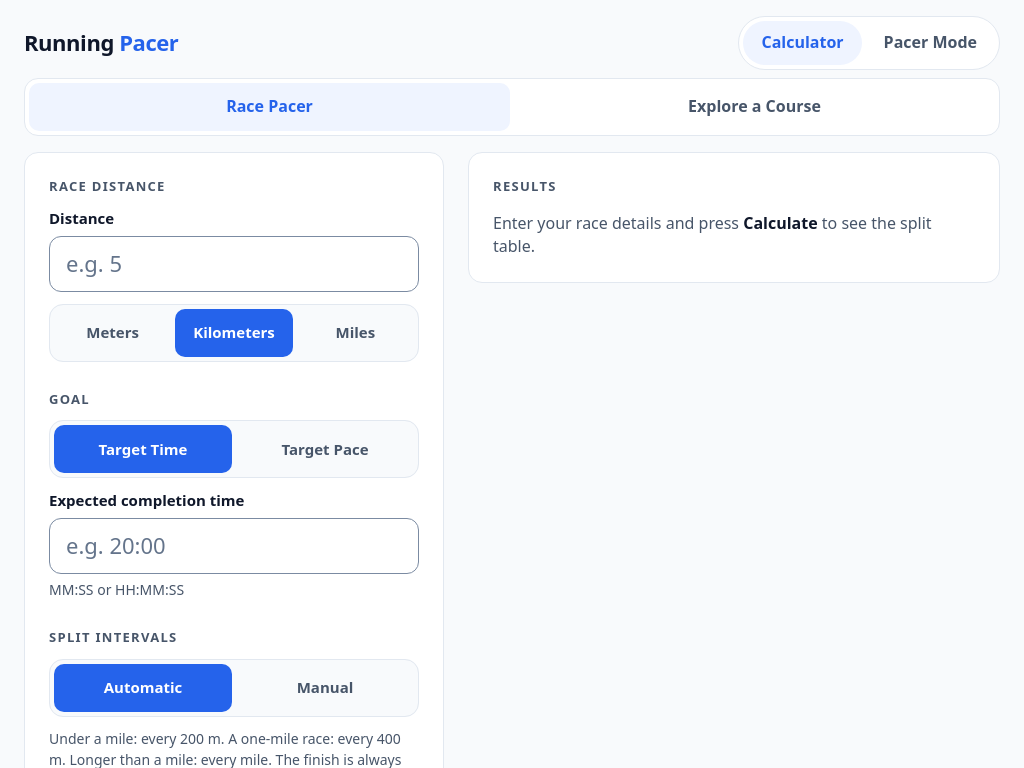
after calculating a race › shows the active race and the finish location, and no other locations yet
The width and height of the screenshot is (1024, 768).
In the field labelled "Distance": [234, 264] box [49,236,419,292], type "5"
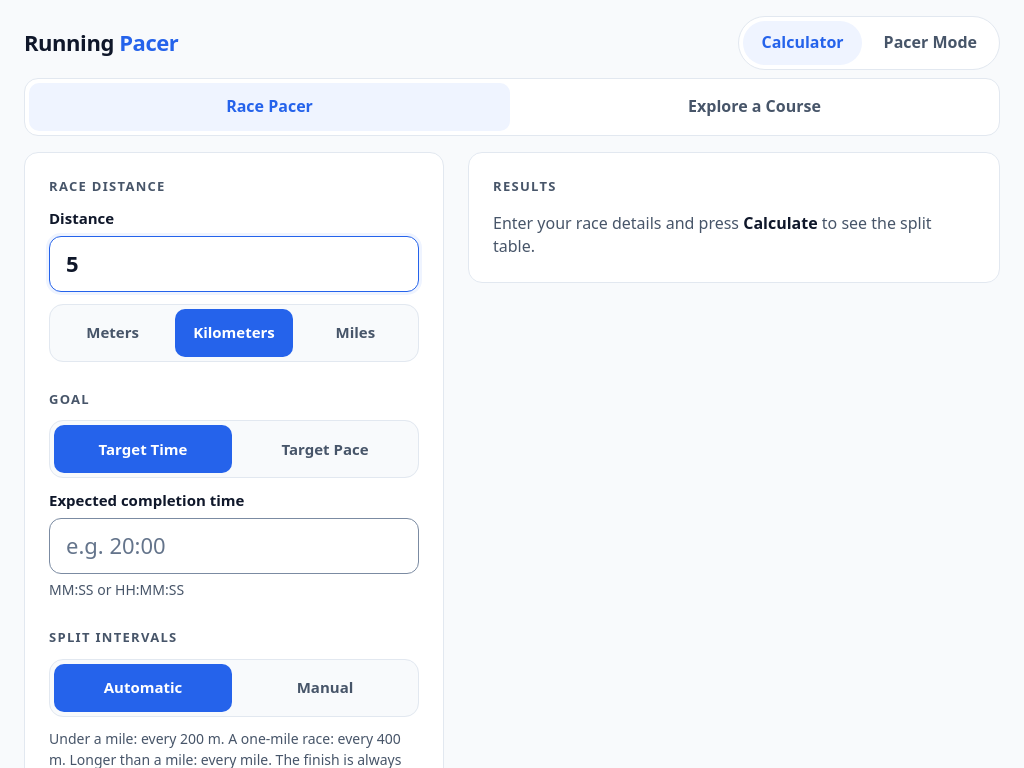
In the field labelled "Expected completion time": [234, 546] box [49,518,419,574], type "20:00"
(page scrolled)
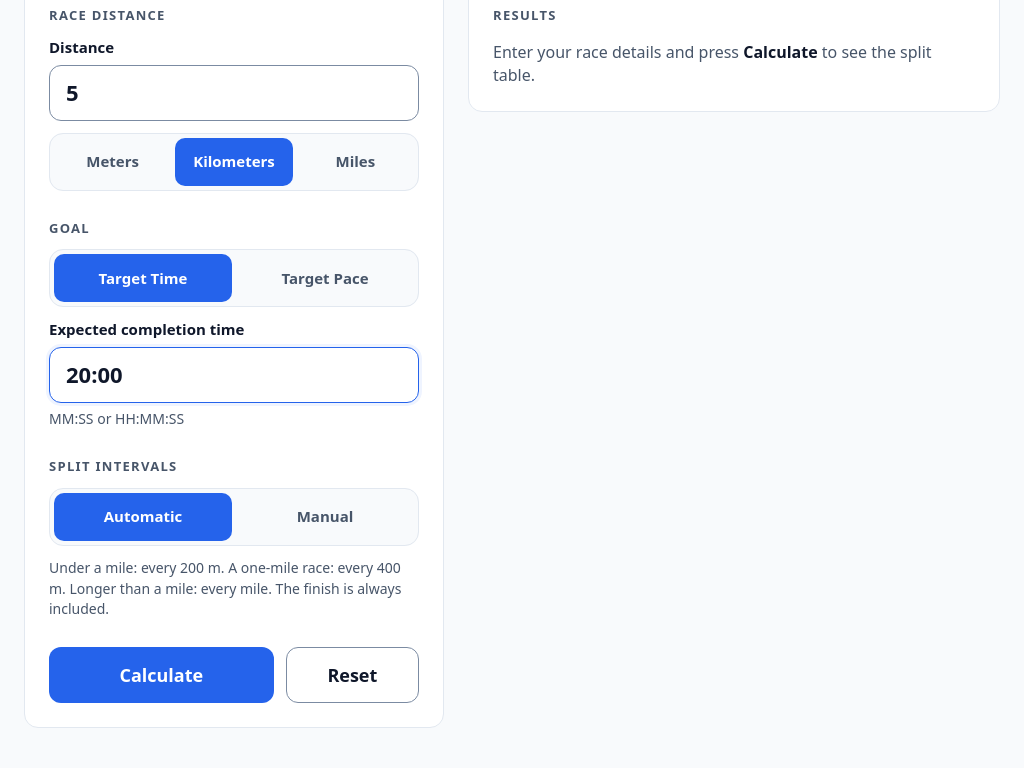
Click the button "Calculate": [161, 675] box [49,647,274,703]
(page scrolled)
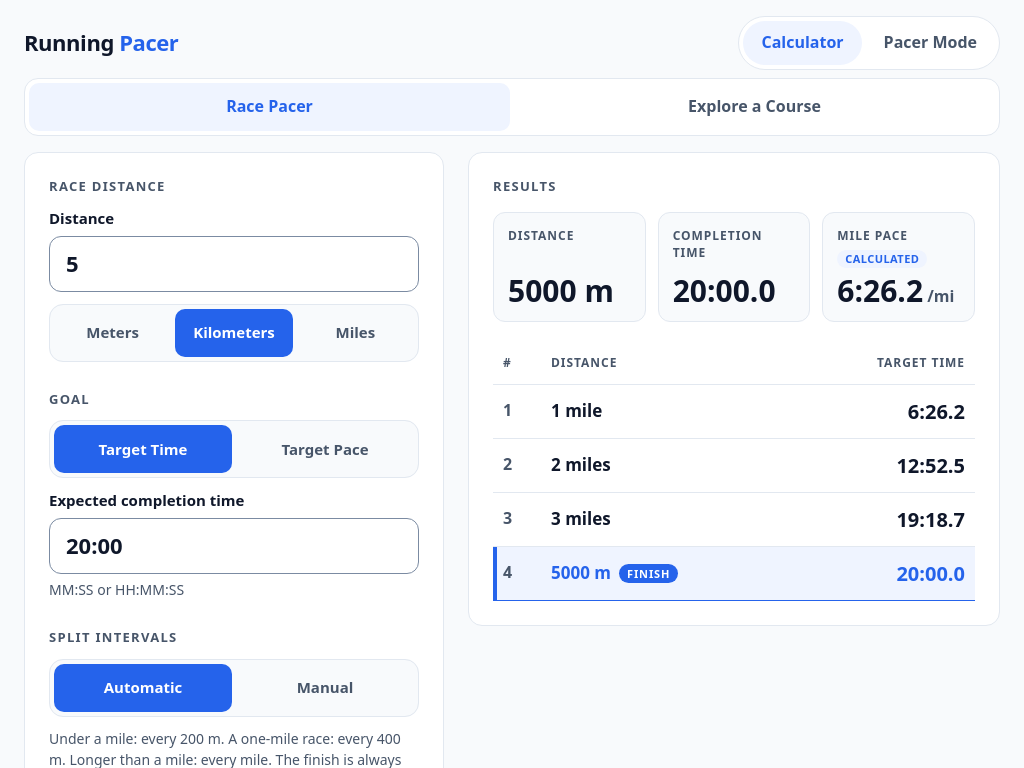
Click the button "Pacer Mode": [930, 43] box [866,21,995,65]
(page scrolled)
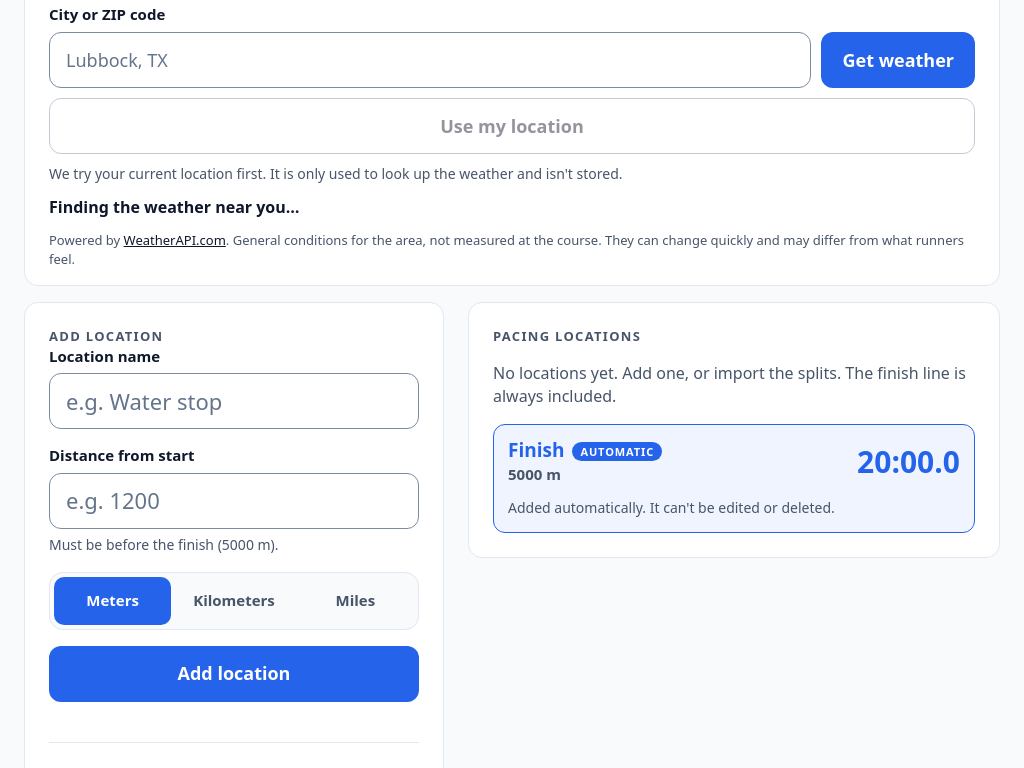
Now the text "No locations yet" is shown, box [493,362,966,407]
